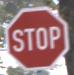Stop sign: (0, 0, 73, 74)
